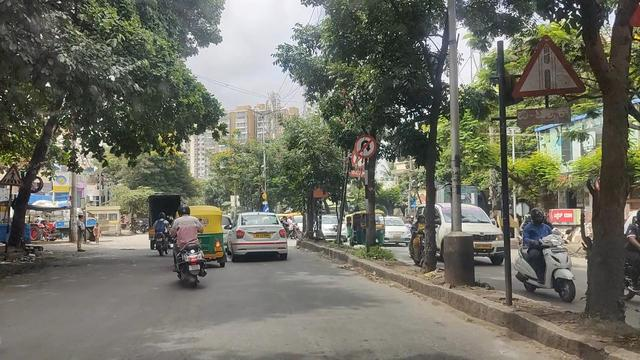LMV: (228, 211, 288, 261), (173, 215, 206, 290)
